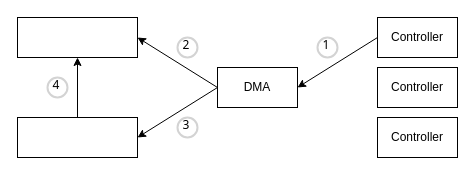
The diagram is 475 pixels wide and 175 high, and some of its shapes have lost their labels. Here are the shapes that lost their labels. From the top down, the centre of each, then its label:
At point 77,37: "Memory".
At point 77,137: "CPU".
